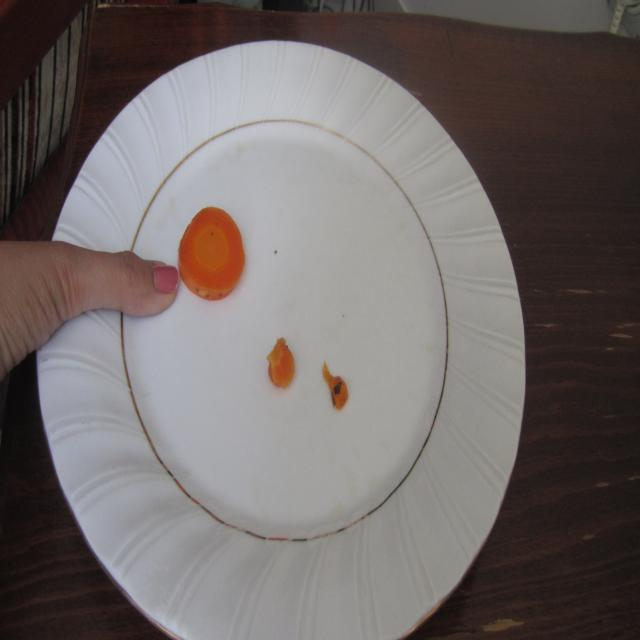carrot: (180, 203, 362, 433)
